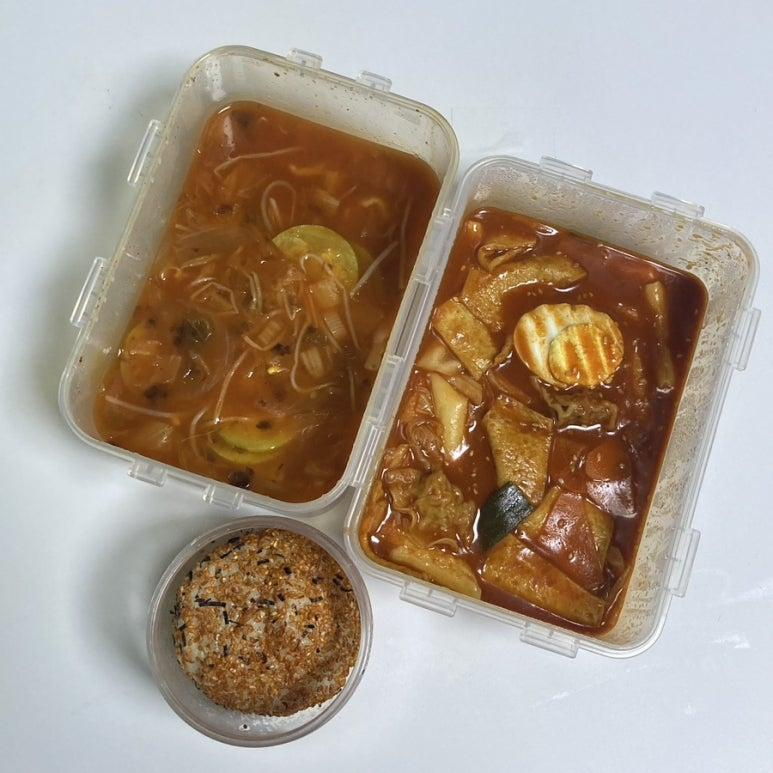Lunch Box: (345, 156, 758, 656), (59, 46, 458, 516), (147, 516, 371, 746)
